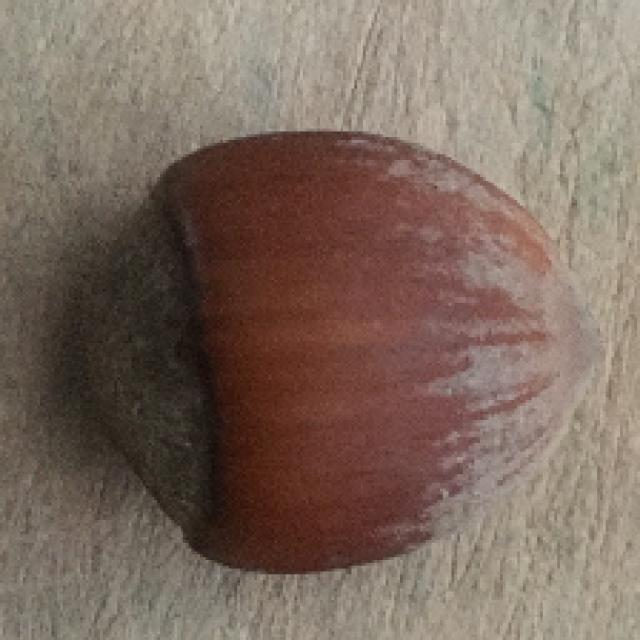QualityHazelnut: (74, 126, 613, 575)
